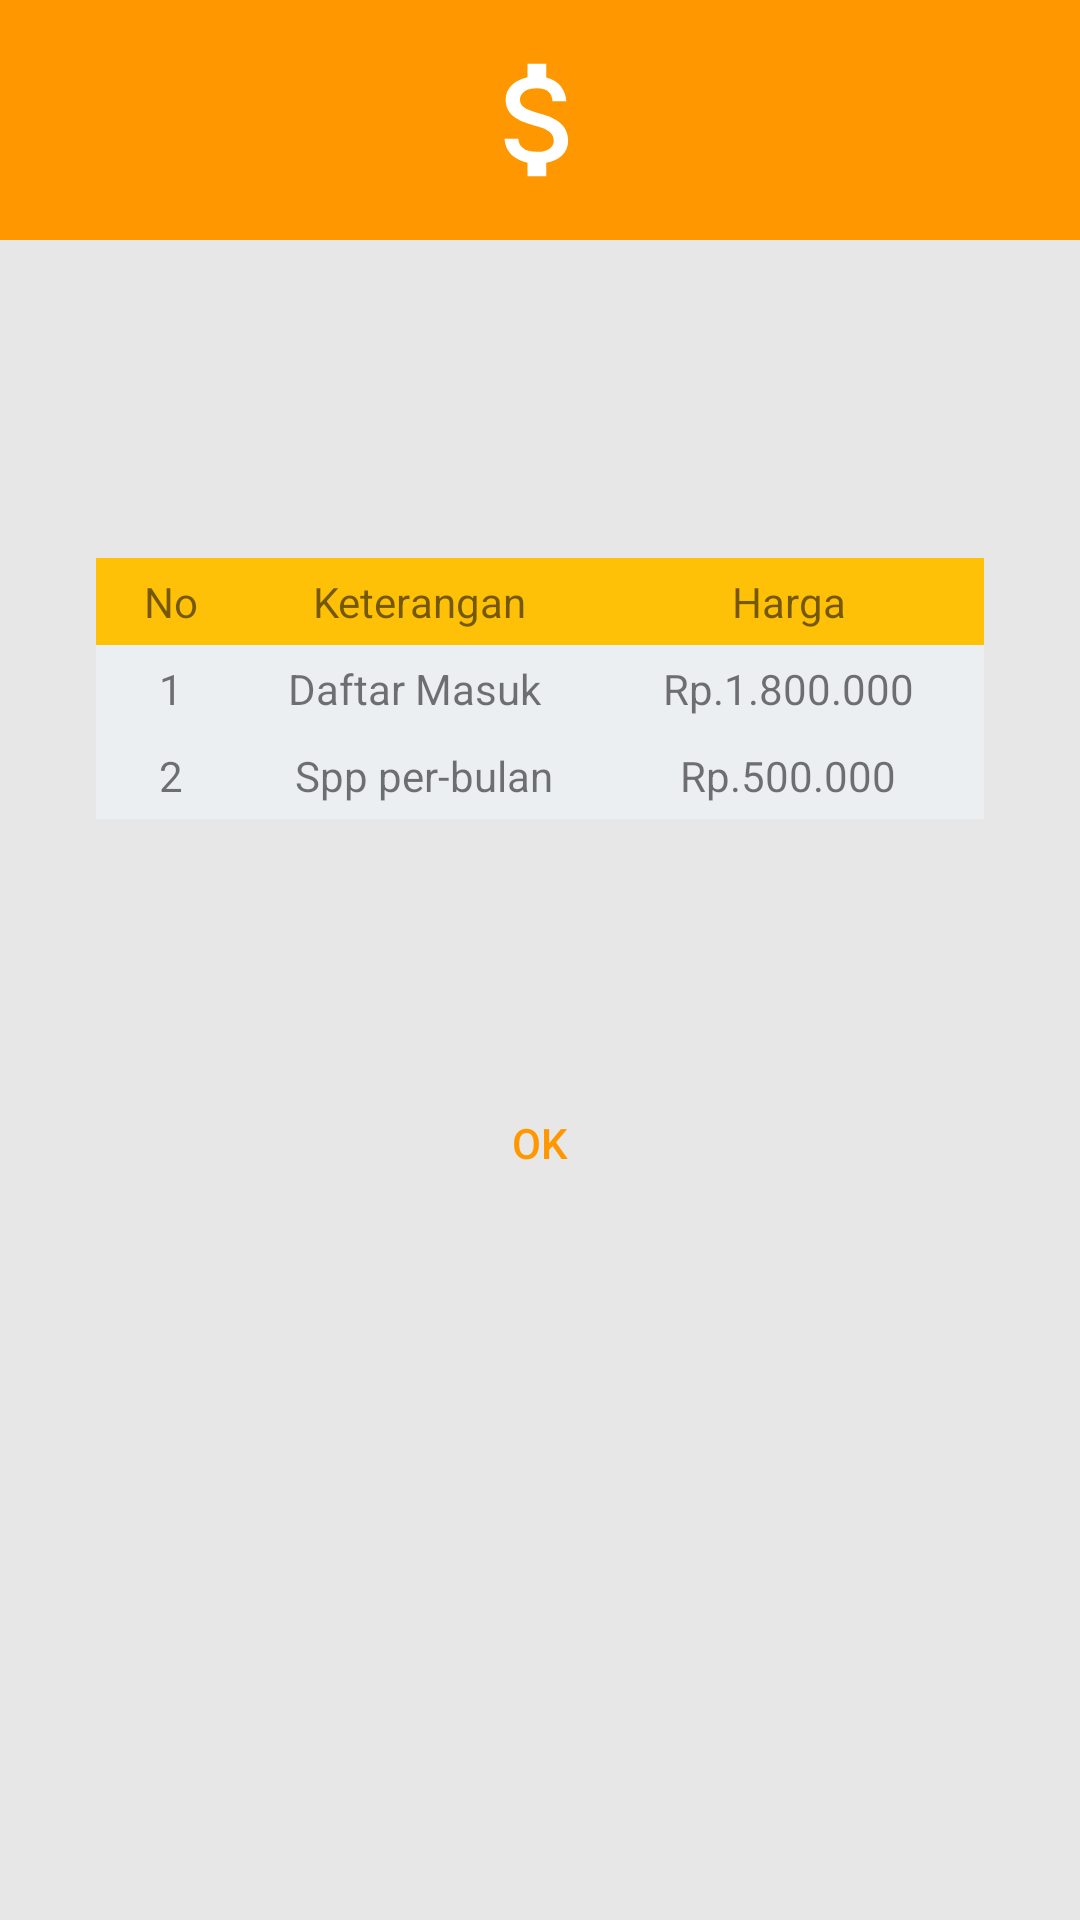

Locate icon controls on the screen. Image size 1080px x 1920px, boxes as (x1=x1, y1=y1, x2=x2, y2=y2).
harga: (x1=504, y1=63, x2=568, y2=177)
